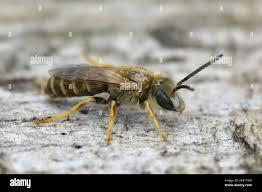Seladonia: (39, 39, 195, 138)
